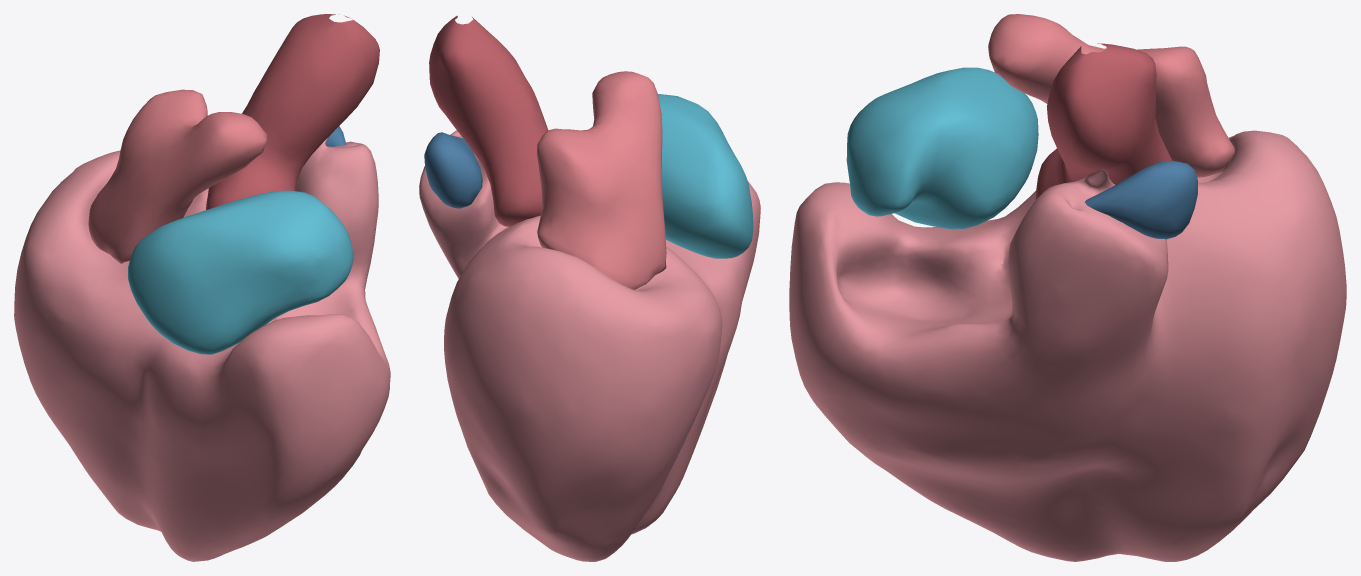
The model's file is frame_67.glb.
The picture shows the model from 3 angles, left to right: view 1: azimuth 30°, elevation 25°; view 2: azimuth 150°, elevation 25°; view 3: azimuth 270°, elevation 25°; orthographic projection. The views are drawn at different scales.
Parts seen in each view (by area): view 1: Renderer Node; view 2: Renderer Node; view 3: Renderer Node.
Part boxes in pixels (left/top/right/bottom): Renderer Node: left=14, top=14, right=390, bottom=561; Renderer Node: left=419, top=16, right=760, bottom=561; Renderer Node: left=789, top=14, right=1346, bottom=561.
Bounding box in the file's own units: 107 × 165 × 137.
